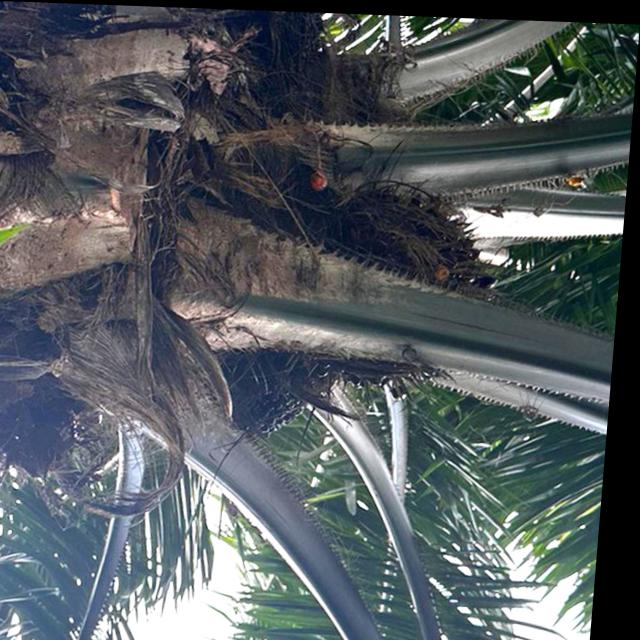unripe: (271, 181, 508, 395)
